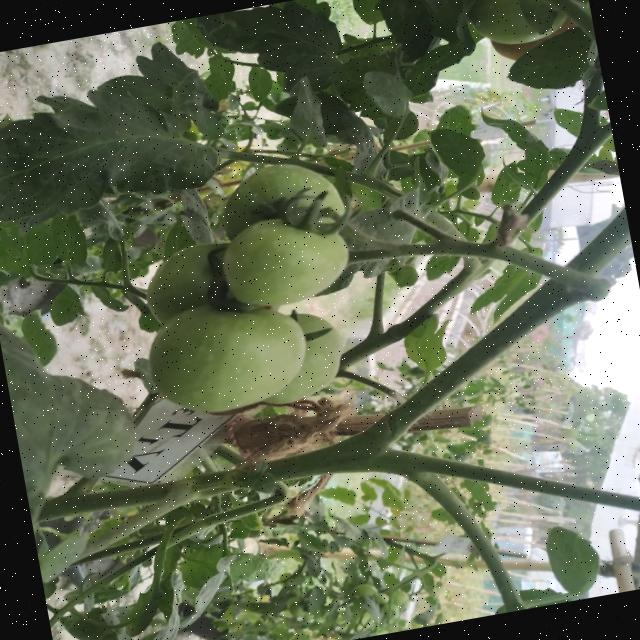Unripe: (138, 293, 317, 424), (215, 206, 356, 314)
